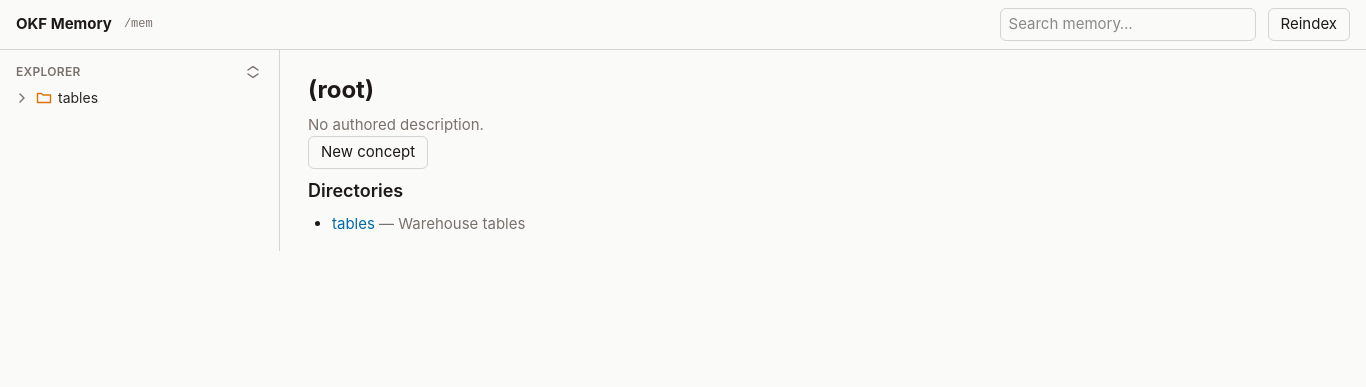
Test case: browse and view › expands a directory lazily and shows a concept
Expected: the text "/mem" is shown, 124,17 -> 153,31
Click the button named "tables" at (22, 98), box 12,88 -> 32,108
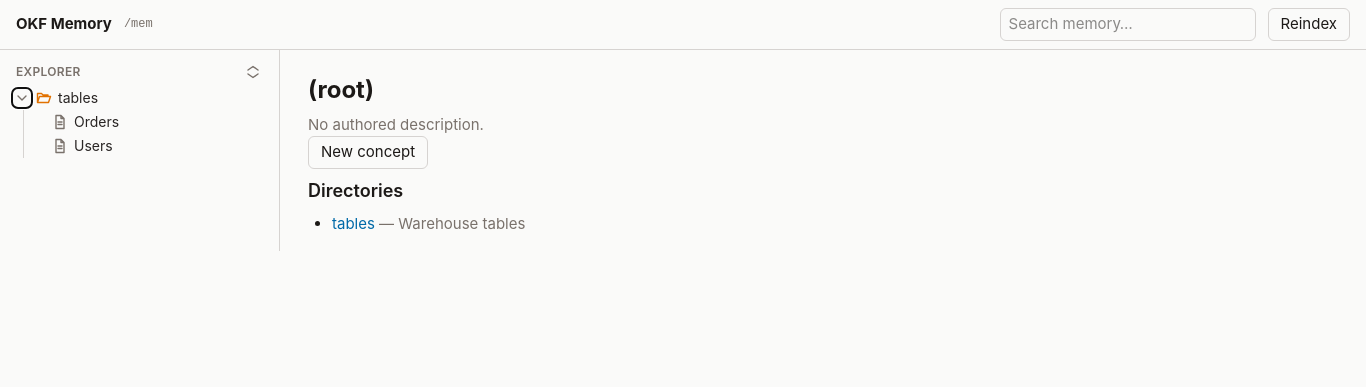
Click the link "Orders" at (86, 121), box 52,112 -> 119,130
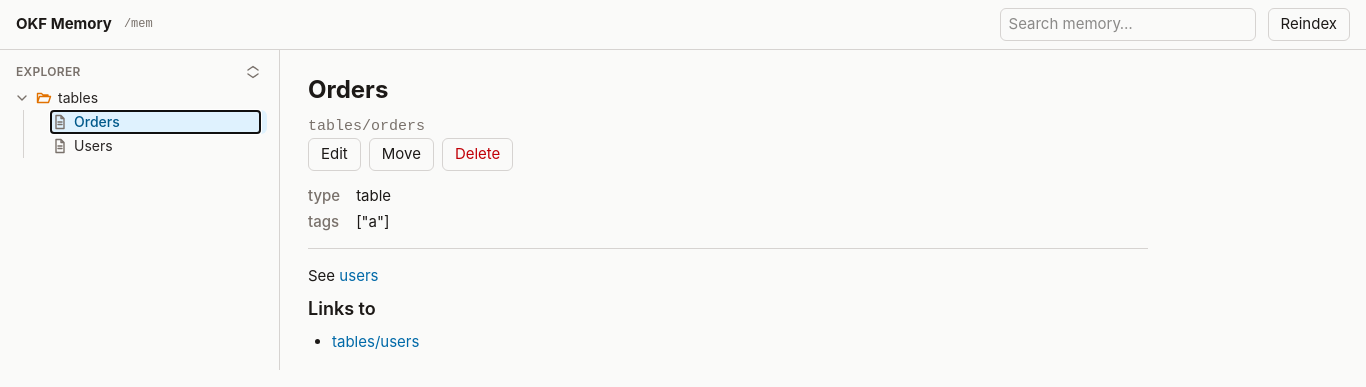
Expected: the heading "Orders" is shown, 308,74 -> 388,104
Expected: the text "table" is shown, 356,182 -> 391,209
